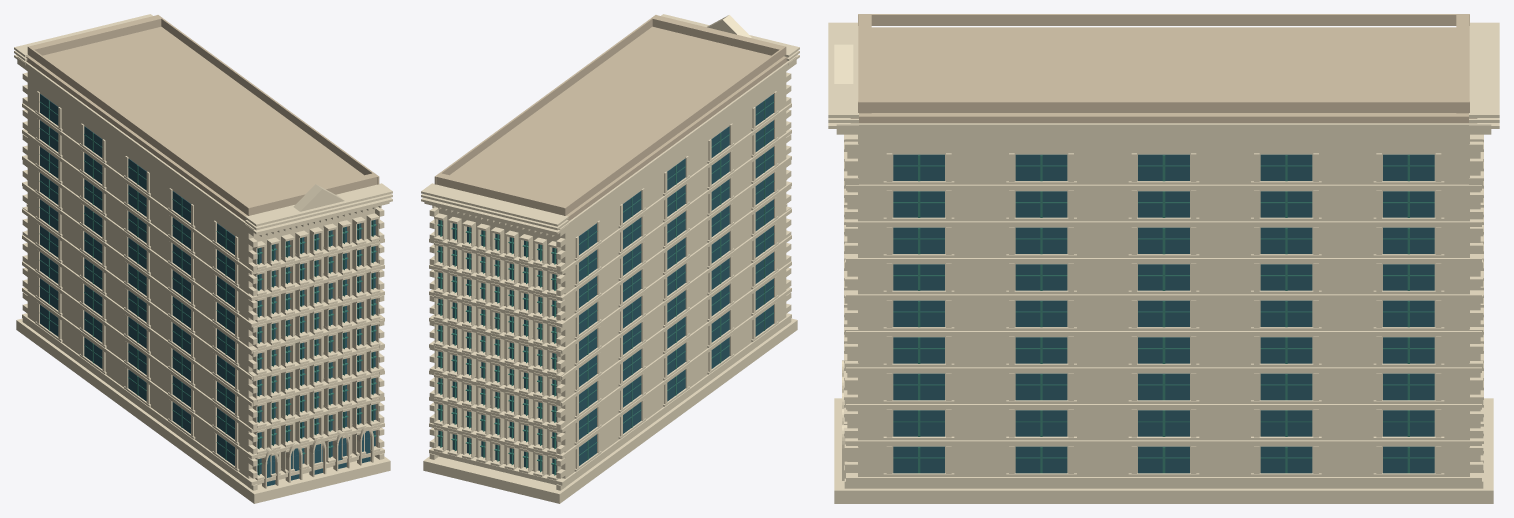
Rendered from north-china-daily-news.glb.
The picture shows the model from 3 angles, left to right: view 1: azimuth 30°, elevation 25°; view 2: azimuth 150°, elevation 25°; view 3: azimuth 270°, elevation 25°; orthographic projection. The views are drawn at different scales.
Parts seen in each view (by area): view 1: north-china-daily-news; view 2: north-china-daily-news; view 3: north-china-daily-news.
Part boxes in pixels (x1=…): north-china-daily-news: x1=14, y1=14, x2=392, y2=503; north-china-daily-news: x1=421, y1=14, x2=799, y2=503; north-china-daily-news: x1=828, y1=14, x2=1499, y2=503.
Size of the model in its own units: 16.28 by 34 by 50.05.
